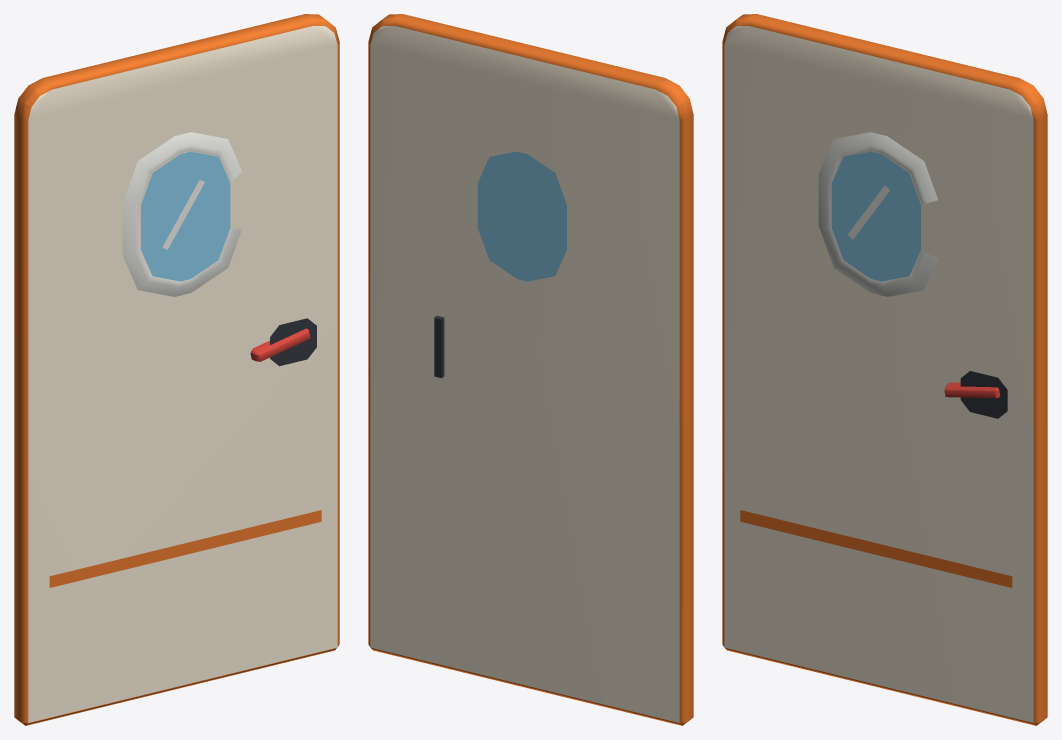
File: PuertaAla.fbx
The picture shows the model from 3 angles, left to right: view 1: azimuth 30°, elevation 25°; view 2: azimuth 150°, elevation 25°; view 3: azimuth 330°, elevation 25°; orthographic projection.
Visible parts, largest first — view 1: PuertaAla; view 2: PuertaAla; view 3: PuertaAla.
Boxes of the visible parts, x1=… form: PuertaAla: x1=14, y1=14, x2=339, y2=725; PuertaAla: x1=368, y1=14, x2=693, y2=725; PuertaAla: x1=722, y1=14, x2=1047, y2=725.
Size of the model in its own units: 3.4 by 6.5 by 0.3706.
1 material, 1 textured.
